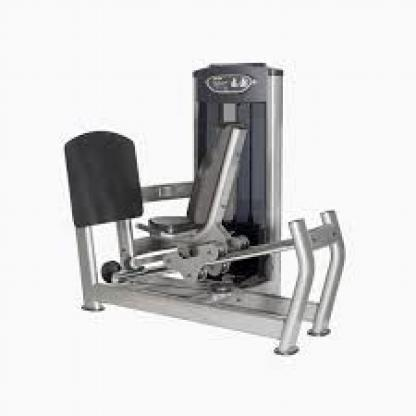leg press: (50, 51, 355, 366)
